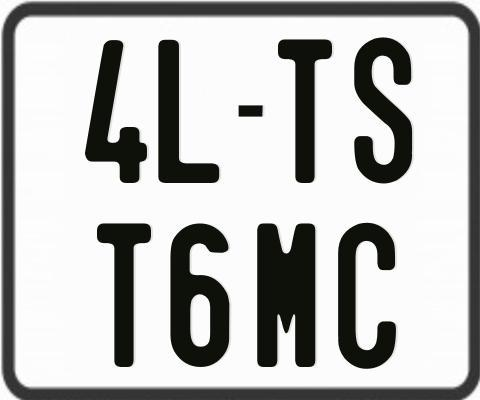4: (83, 37, 150, 183)
6: (170, 223, 233, 369)
C: (338, 220, 401, 369)
L: (155, 40, 217, 187)
M: (257, 222, 320, 372)
S: (353, 36, 417, 184)
T: (278, 36, 338, 180), (97, 222, 152, 368)
